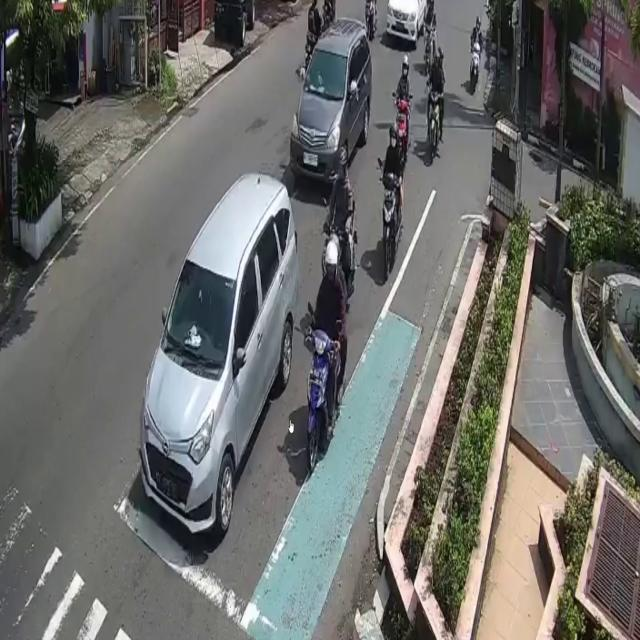bus: (304, 325, 331, 473), (381, 171, 399, 282), (425, 88, 440, 157), (468, 36, 482, 96), (394, 96, 410, 146)
motorcycle: (139, 174, 299, 538), (292, 18, 372, 190), (386, 1, 427, 45)
